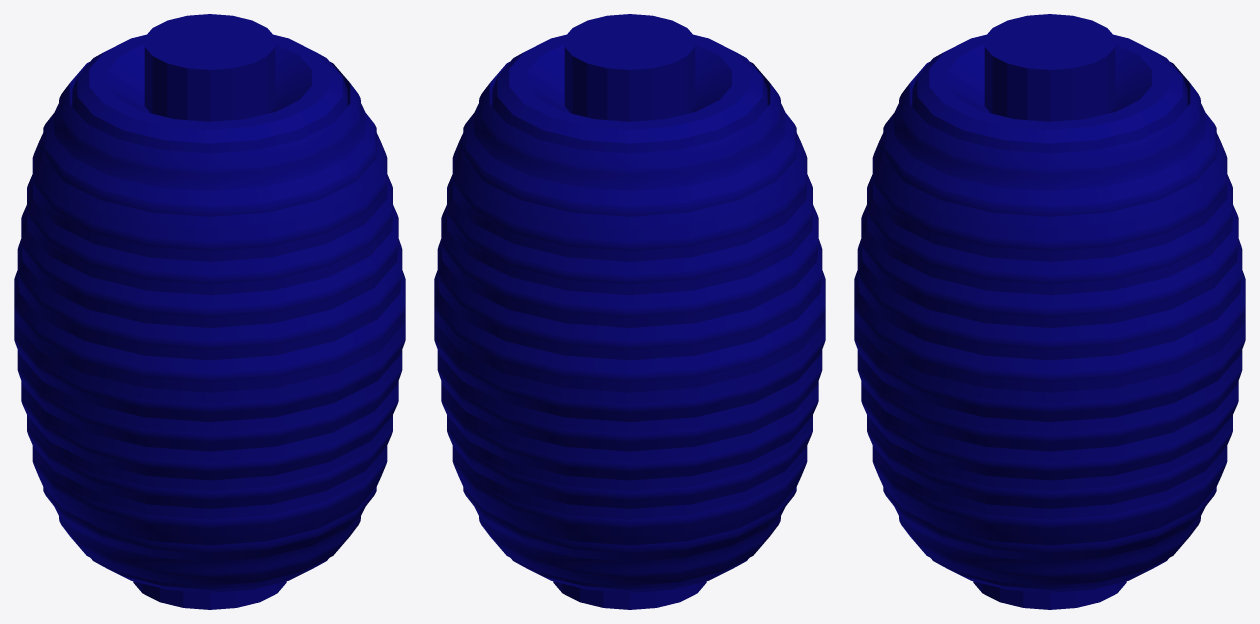
File: lantern.fbx
3 views of the same model, side by side, from view 1: azimuth 30°, elevation 25°; view 2: azimuth 150°, elevation 25°; view 3: azimuth 270°, elevation 25° (orthographic).
Parts seen in each view (by area): view 1: LANTERNE; view 2: LANTERNE; view 3: LANTERNE.
Boxes of the visible parts, x1,y1,x2,y2 form: LANTERNE: (14, 14, 405, 609); LANTERNE: (434, 14, 825, 609); LANTERNE: (854, 14, 1245, 609).
Size of the model in its own units: 32.26 by 47.9 by 31.77.
